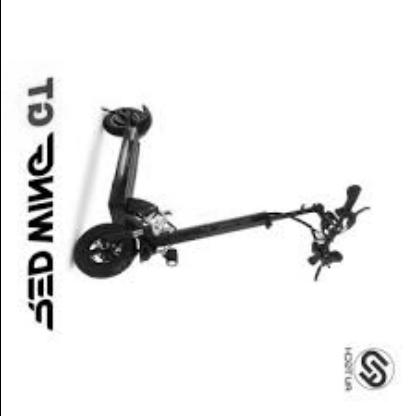bike: (72, 105, 375, 279)
